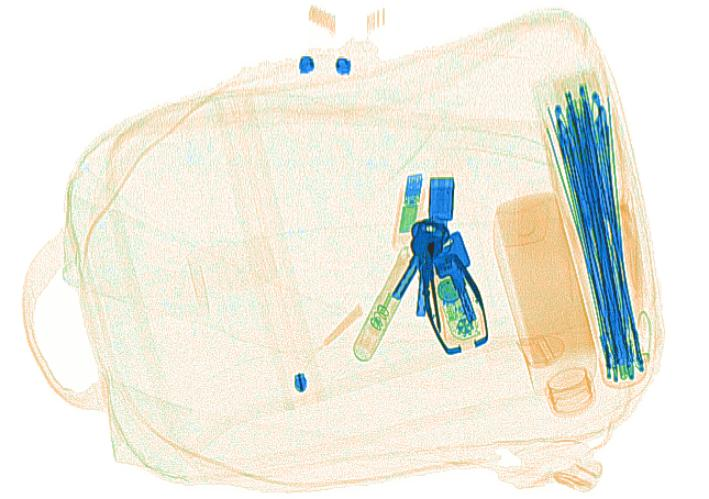USBFlashDisk: (394, 172, 425, 237)
